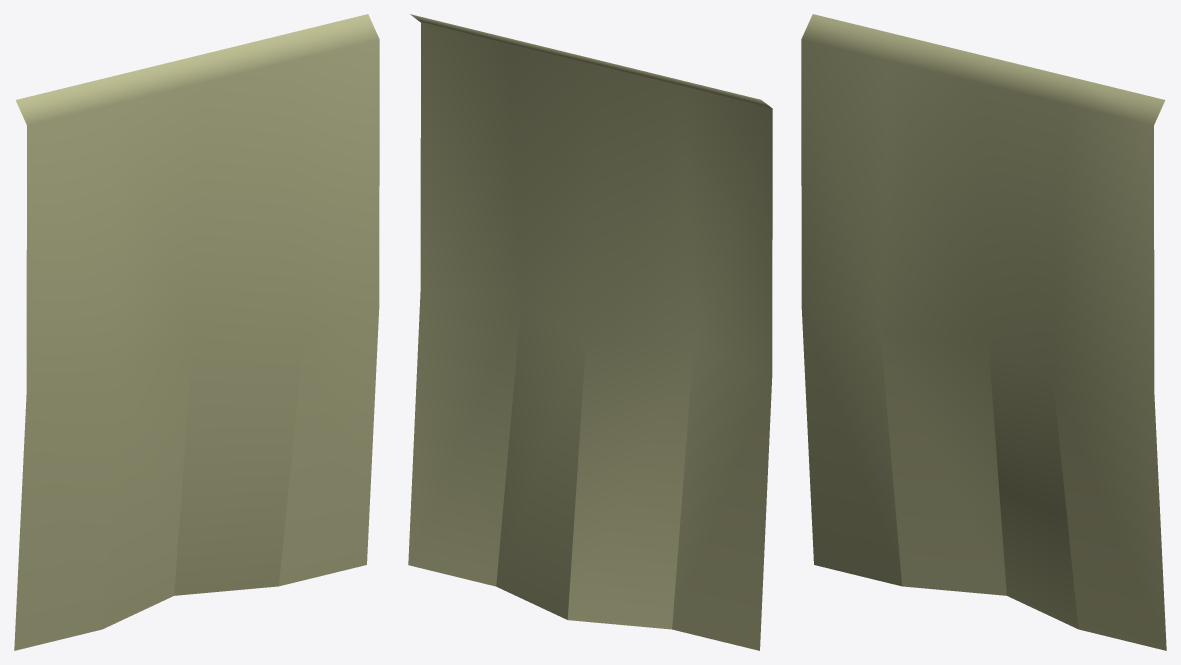
File: CliffWall.fbx
3 views of the same model, side by side, from view 1: azimuth 30°, elevation 25°; view 2: azimuth 150°, elevation 25°; view 3: azimuth 330°, elevation 25° (orthographic).
Parts seen in each view (by area): view 1: Cliff_Wall; view 2: Cliff_Wall; view 3: Cliff_Wall.
Boxes of the visible parts, x1,y1,x2,y2 form: Cliff_Wall: (14, 14, 379, 650); Cliff_Wall: (408, 14, 772, 650); Cliff_Wall: (801, 14, 1166, 650).
Bounding box in the file's own units: 2 × 2.99 × 0.411.
